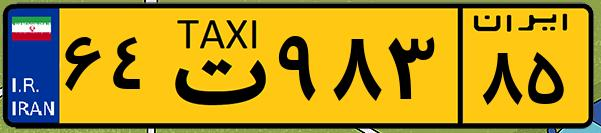3: (385, 28, 445, 110)
4: (110, 28, 158, 98)
5: (525, 38, 570, 115)
6: (57, 26, 110, 100)
8: (330, 28, 385, 110), (475, 38, 525, 113)
9: (270, 28, 330, 110)
ت: (158, 12, 270, 120)
